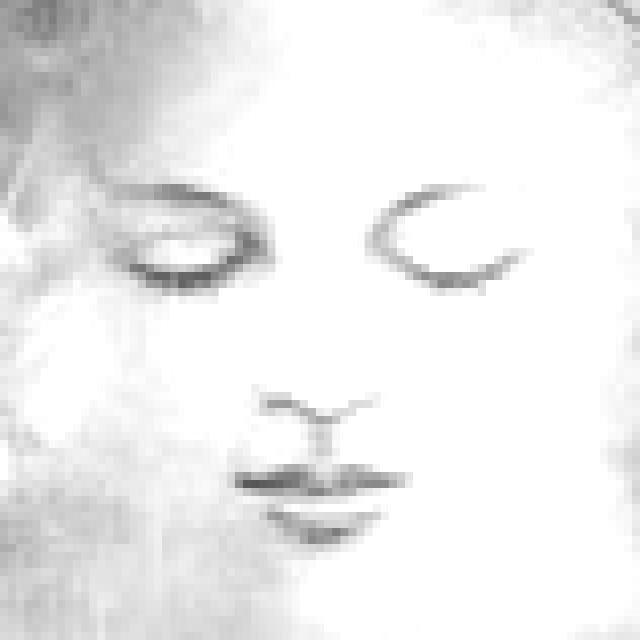real: (60, 4, 586, 640), (90, 188, 538, 312)
